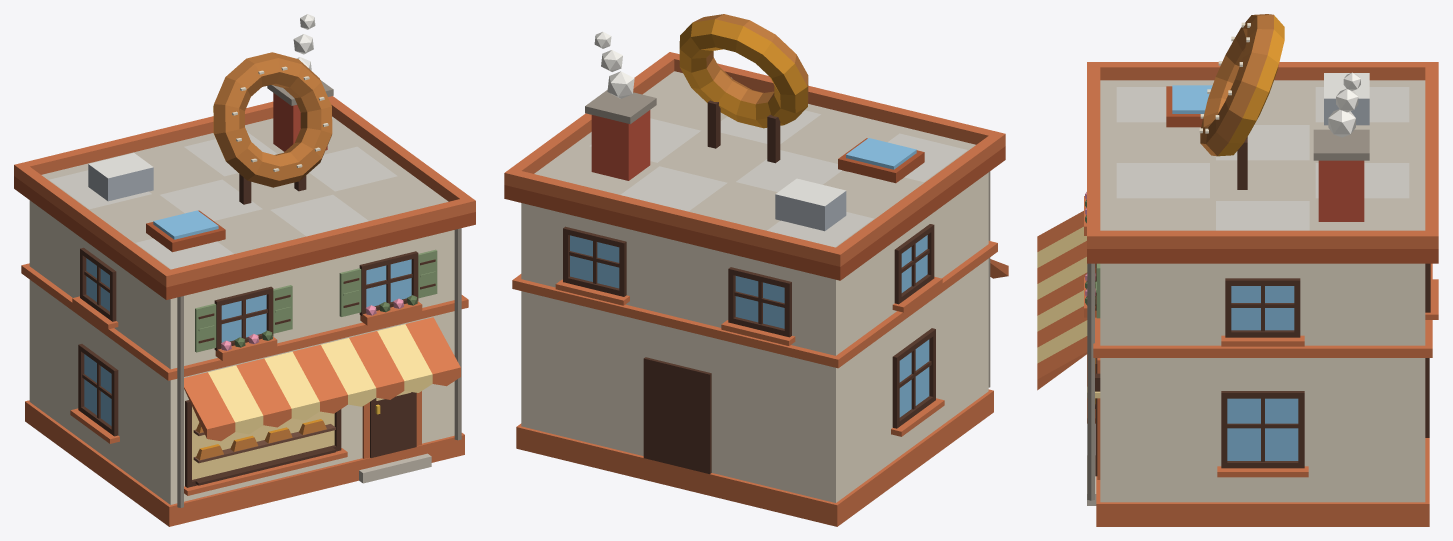
Rendered from B_Bakery.fbx.
3 views of the same model, side by side, from view 1: azimuth 30°, elevation 25°; view 2: azimuth 150°, elevation 25°; view 3: azimuth 270°, elevation 25° (orthographic). The views are drawn at different scales.
Visible parts, largest first — view 1: B_Bakery; view 2: B_Bakery; view 3: B_Bakery.
Boxes of the visible parts, x1,y1,x2,y2 form: B_Bakery: (14,14,475,526); B_Bakery: (504,14,1008,526); B_Bakery: (1037,14,1438,526).
Bounding box in the file's own units: 4.06 × 4.69 × 3.95.
